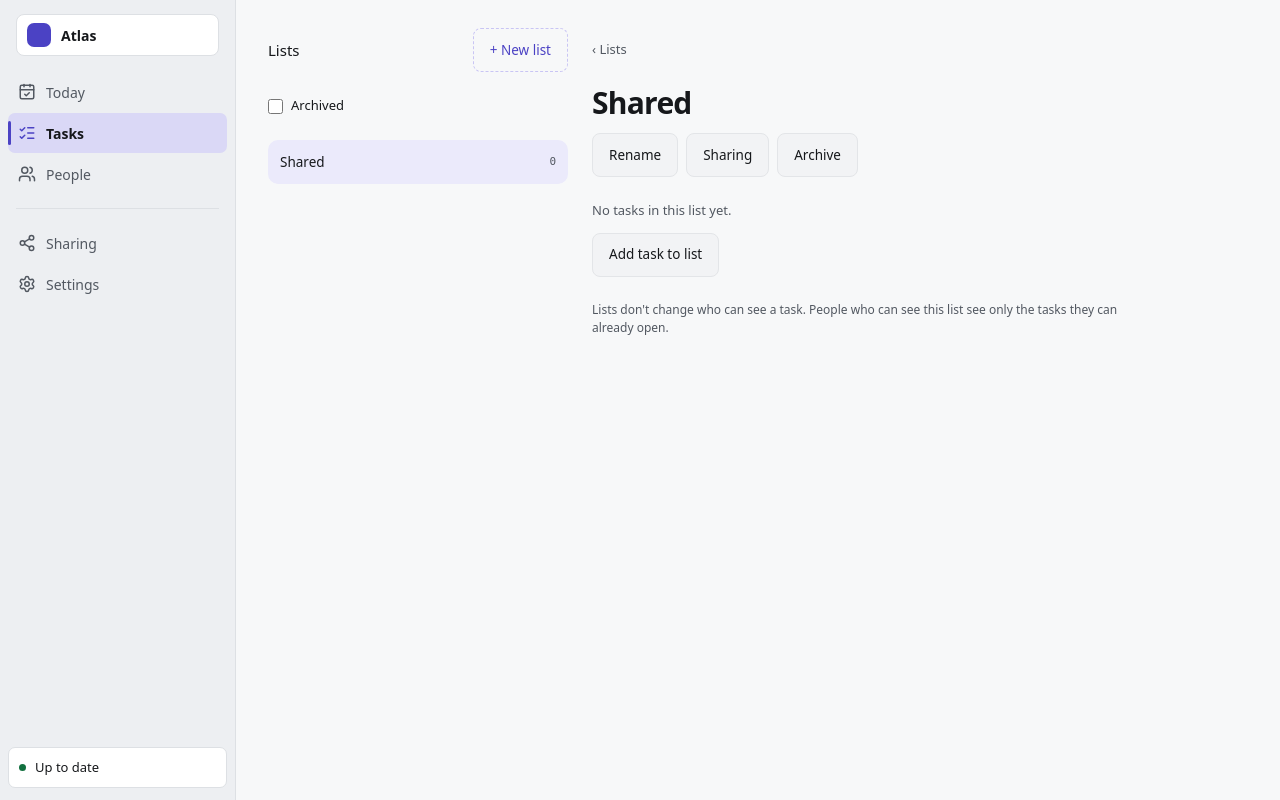
Test case: L13: Sharing on a list (WEB-12a's editor, consumed) › a synced list opens the shared policy editor, which reads THIS list's policy
This screenshot has width=1280, height=800.
Step 1. Click the button "Sharing" → [728, 155], box [686,133,769,177]
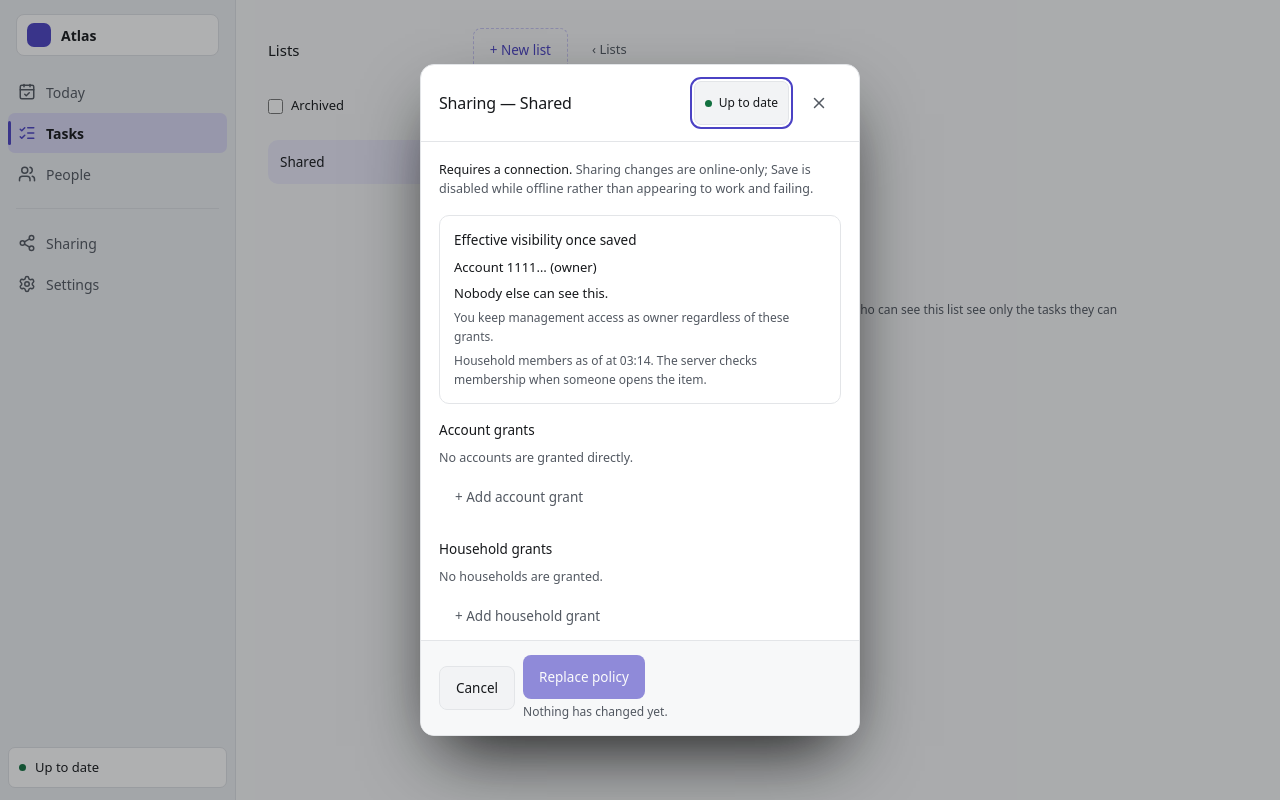
Now the dialog is shown, box [420,64,860,736]
